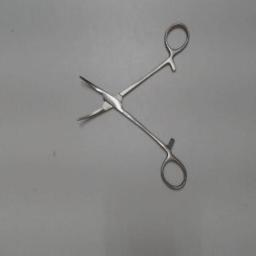Crile Artery Forceps: (70, 18, 190, 194)
